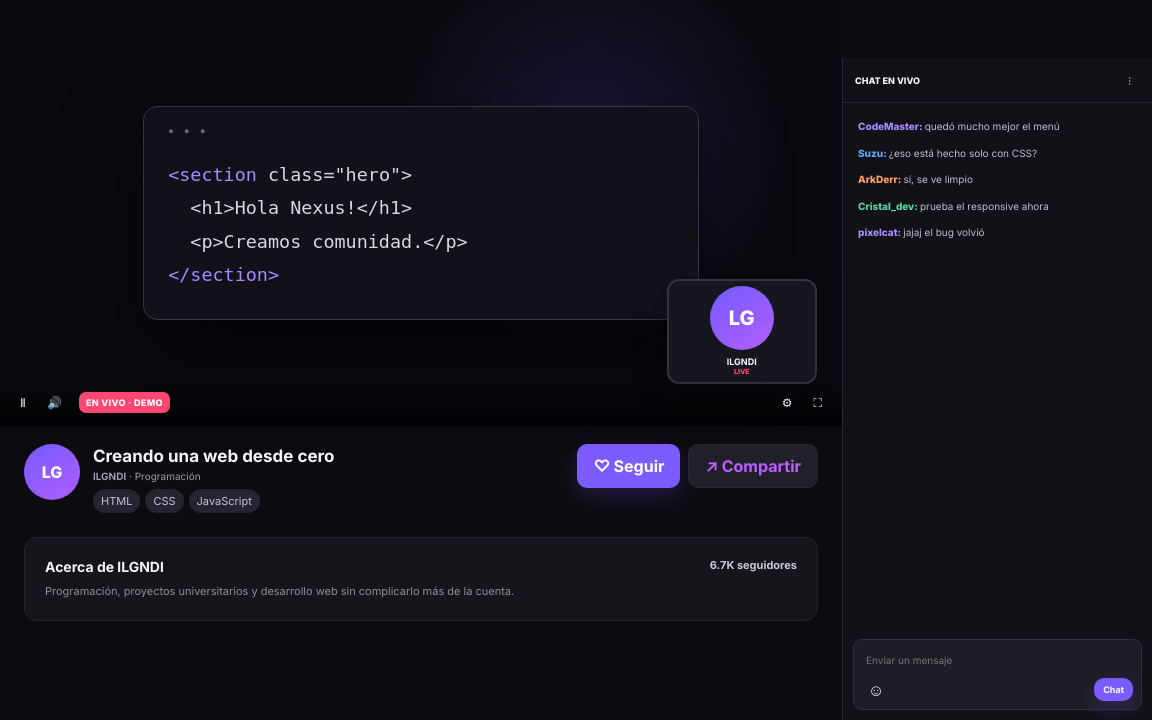
Test: Página Stream › ignora mensajes vacíos y añade texto con el nombre de la sesión
Click the button "Chat" at [1114, 690], box [1094,678,1133,701]
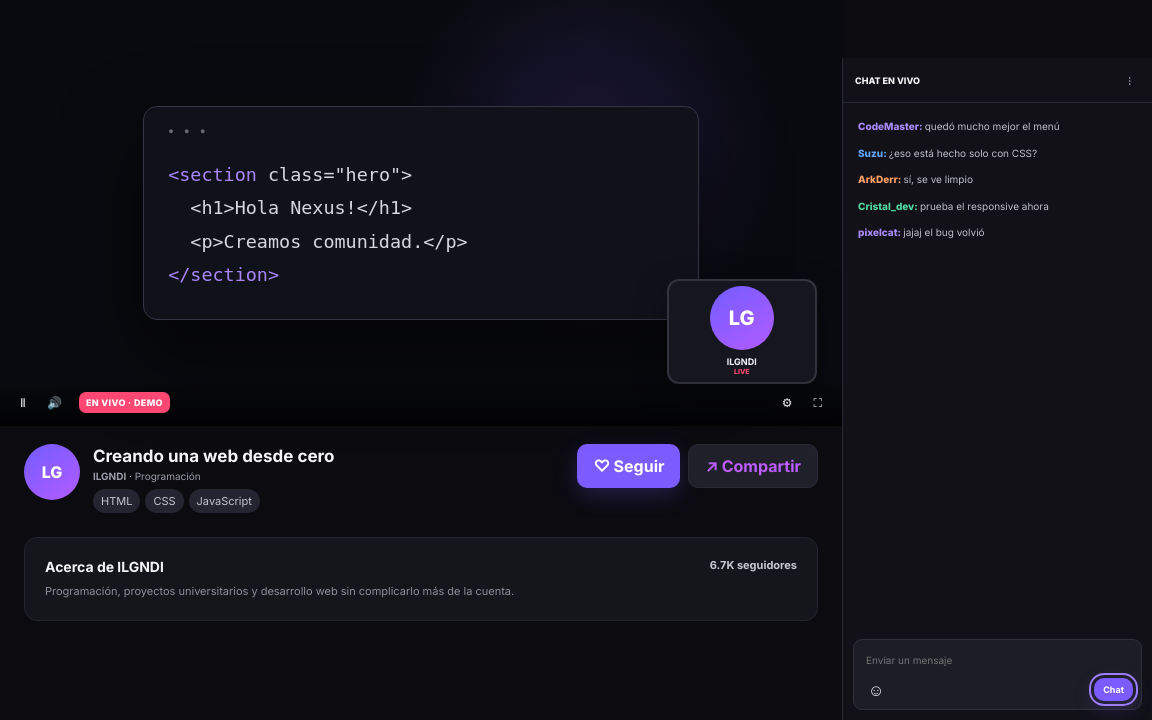
Type "Hola stream" into the field at [998, 660], box [862,650,1133,670]
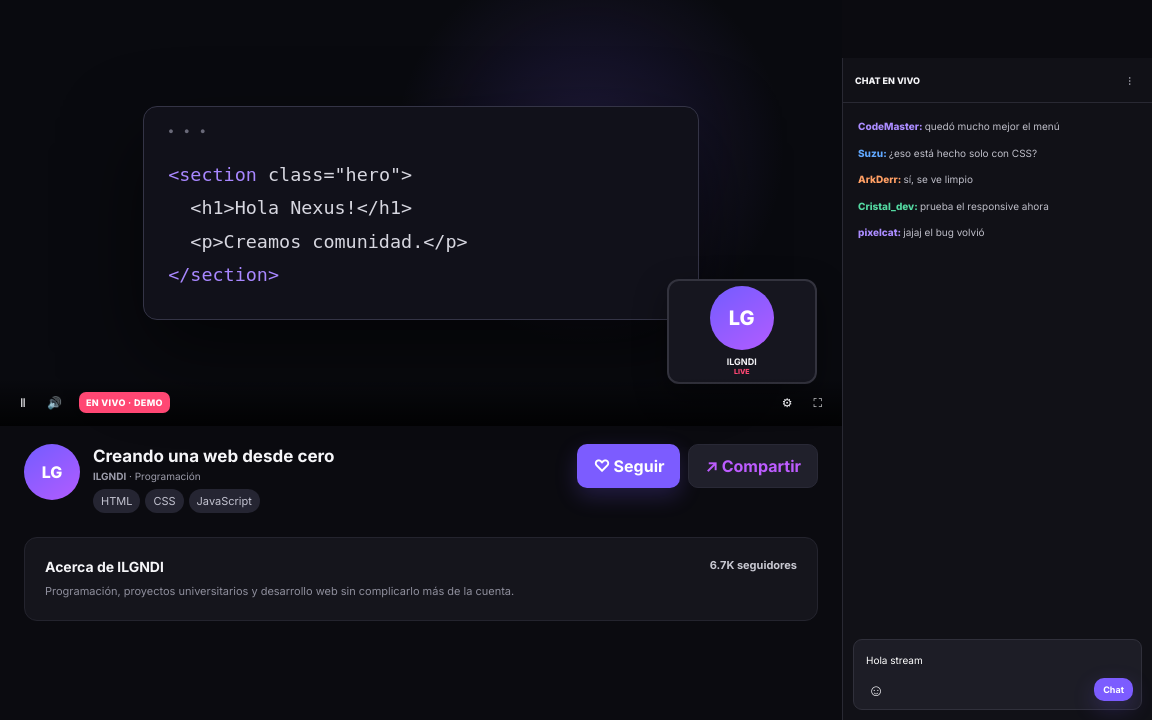
Click the button "Chat" at [1114, 690], box [1094,678,1133,701]
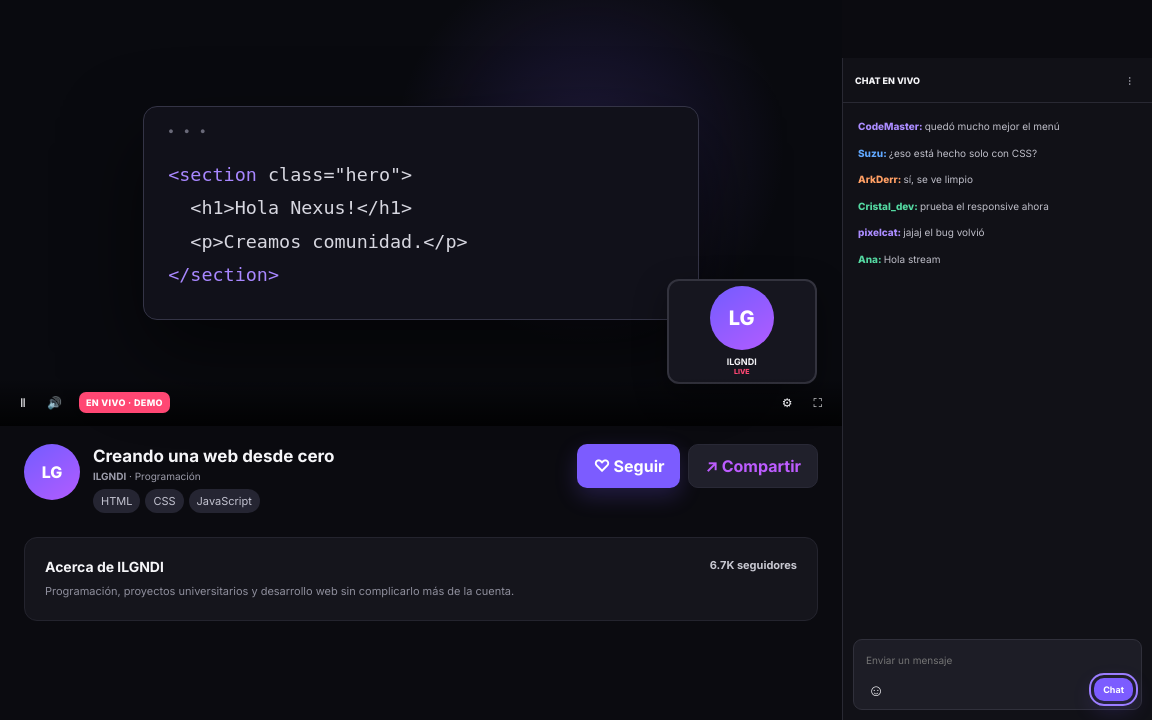
Expected: the text "Ana:" is shown, [858,252,884,264]
Expected: the field is empty, [862,650,1133,670]
Click the button named "Añadir emoji al chat" at [876, 690], box [862,678,890,700]
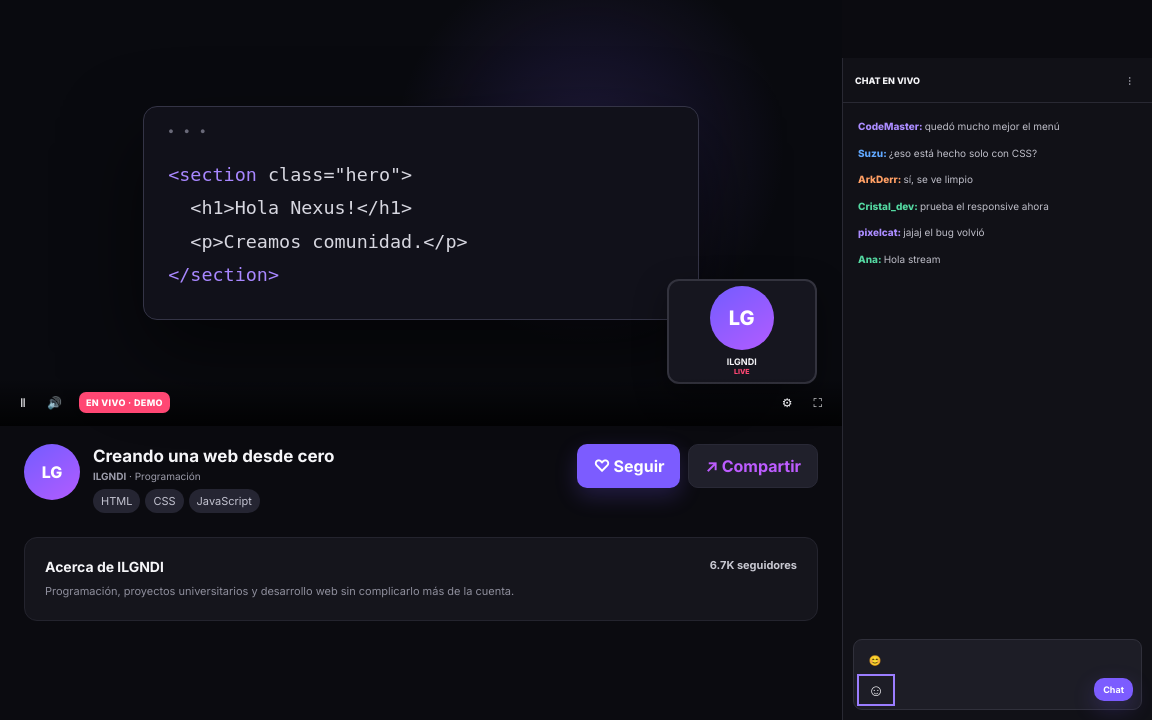
Expected: the field holds " 😊", [862,650,1133,670]
